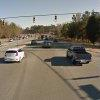Car: (5, 43, 30, 70)
